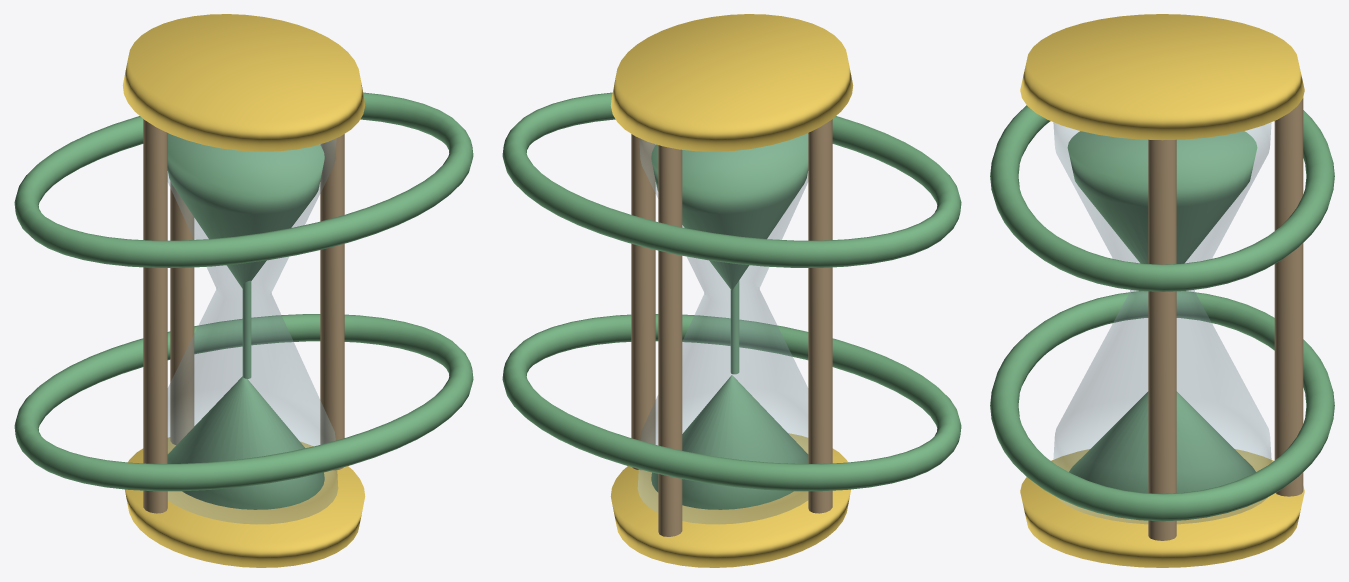
The model's file is time_luck.glb.
The picture shows the model from 3 angles, left to right: view 1: azimuth 30°, elevation 25°; view 2: azimuth 150°, elevation 25°; view 3: azimuth 270°, elevation 25°; orthographic projection. The views are drawn at different scales.
Size of the model in its own units: 21 by 21 by 14.31.
